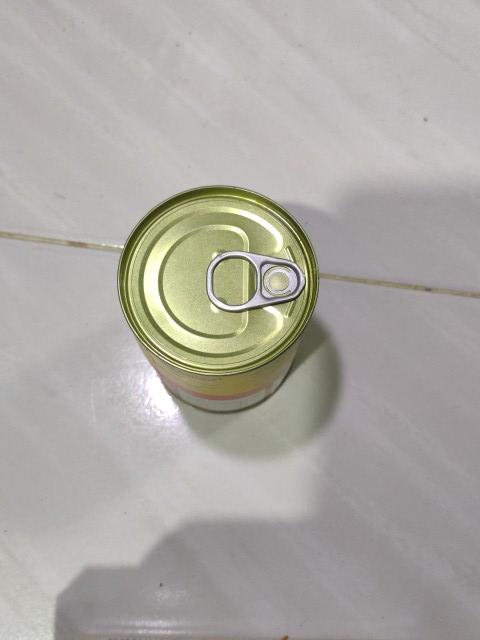canned-goods: (116, 185, 322, 415)
